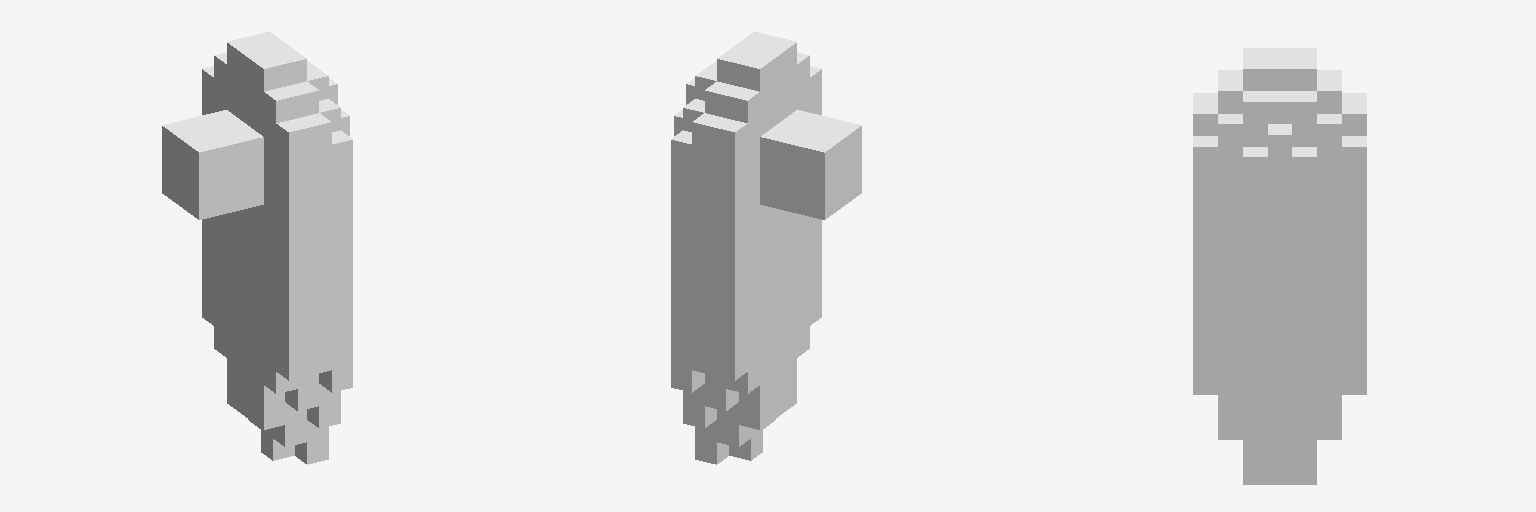
The model's file is LShoulde.obj.
3 renders of one model, left to right at view 1: azimuth 30°, elevation 25°; view 2: azimuth 150°, elevation 25°; view 3: azimuth 270°, elevation 25°, orthographic.
Parts seen in each view (by area): view 1: object 1; view 2: object 1; view 3: object 1.
Part boxes in pixels (bbox=[...]): object 1: bbox=[162, 31, 352, 464]; object 1: bbox=[671, 31, 861, 464]; object 1: bbox=[1193, 48, 1366, 484].
Bounding box in the file's own units: 0.7 × 1.8 × 0.7.